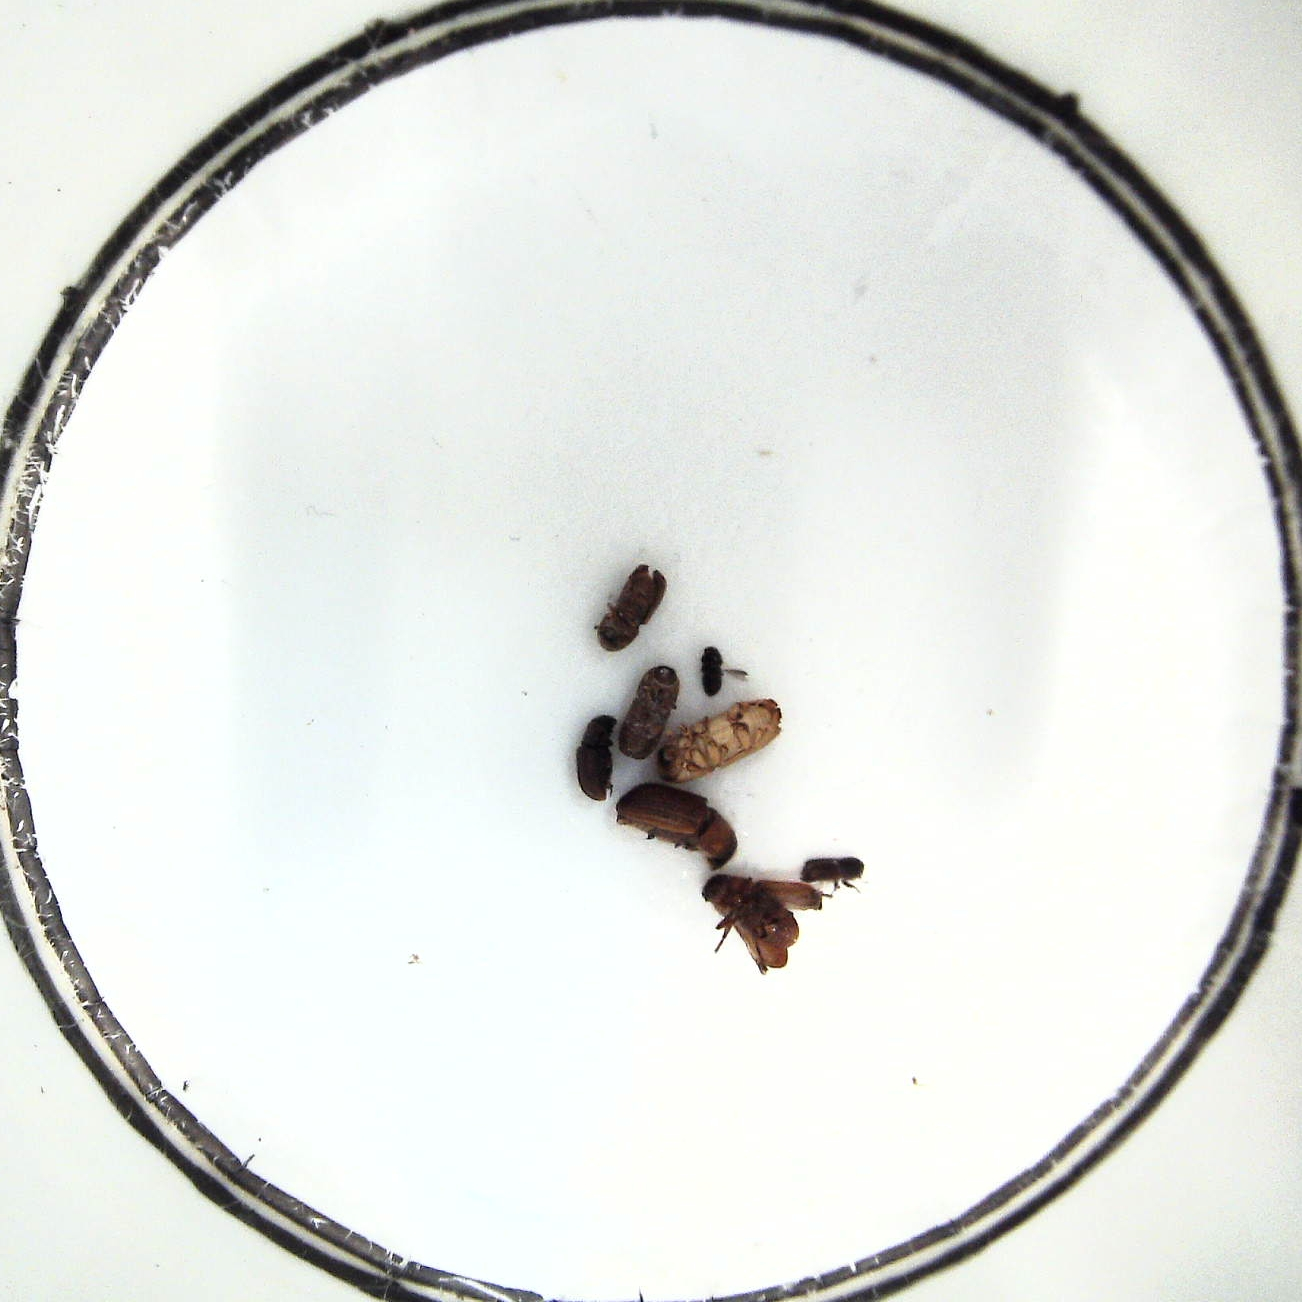Boerner: (661, 697, 785, 781)
Leconte: (703, 873, 824, 975), (609, 783, 742, 868)
Linnaeus: (596, 562, 666, 655), (624, 662, 676, 758)
acuminatus: (798, 850, 866, 893)
armandi: (573, 712, 616, 807)
coleoptera: (696, 644, 732, 699)
